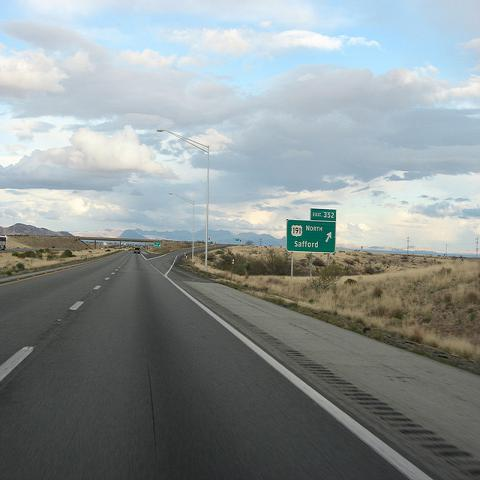car: (132, 247, 142, 254)
